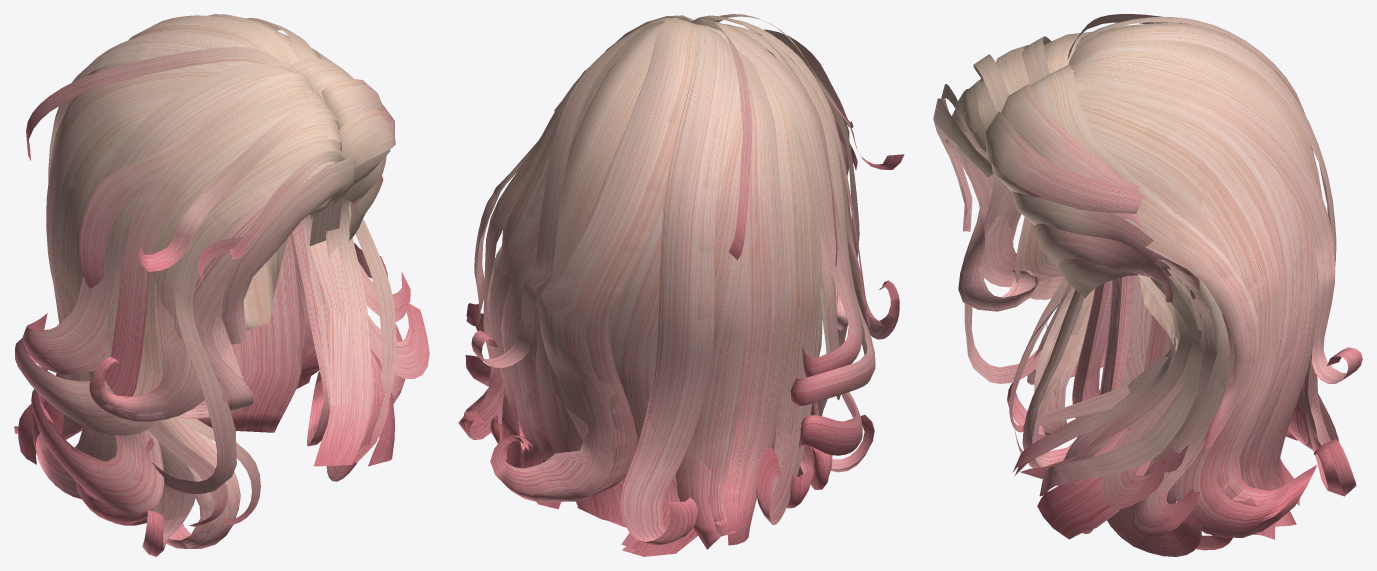
File: hairheroine.fbx
3 views of the same model, side by side, from view 1: azimuth 30°, elevation 25°; view 2: azimuth 150°, elevation 25°; view 3: azimuth 270°, elevation 25° (orthographic). The views are drawn at different scales.
Parts seen in each view (by area): view 1: polySurface124, polySurface122, pPlane10, pPlane9, pPlane11, polySurface120, polySurface105, polySurface115, polySurface109; view 2: polySurface124; view 3: polySurface124, polySurface105, polySurface120, polySurface115, pPlane10, polySurface111, polySurface109, polySurface122, pPlane11, pPlane9, polySurface113, polySurface107.
Part boxes in pixels (<box>): polySurface124: <box>14,14,429,556</box>; polySurface122: <box>313,197,373,466</box>; pPlane10: <box>173,174,333,418</box>; pPlane9: <box>221,156,356,344</box>; pPlane11: <box>309,196,351,405</box>; polySurface120: <box>349,202,396,463</box>; polySurface105: <box>338,104,395,167</box>; polySurface115: <box>321,79,383,129</box>; polySurface109: <box>343,156,386,203</box>; polySurface124: <box>458,14,904,556</box>; polySurface124: <box>941,14,1362,556</box>; polySurface105: <box>984,111,1143,213</box>; polySurface120: <box>1039,269,1202,496</box>; polySurface115: <box>1001,84,1139,192</box>; pPlane10: <box>947,98,1039,311</box>; polySurface111: <box>1033,223,1172,302</box>; polySurface109: <box>1011,191,1159,263</box>; polySurface122: <box>1013,274,1176,475</box>; pPlane11: <box>1034,275,1178,426</box>; pPlane9: <box>933,98,993,231</box>; polySurface113: <box>1056,244,1200,299</box>; polySurface107: <box>991,162,1155,253</box>.
Bounding box in the file's own units: 27.45 × 31.93 × 25.19.
